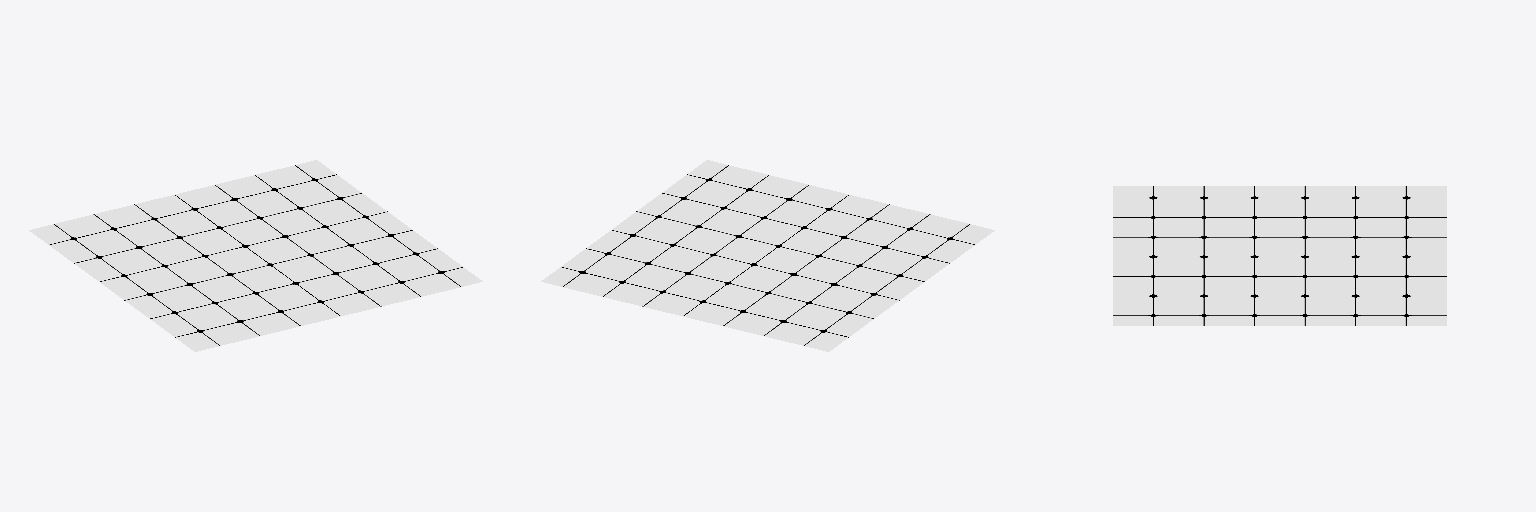
3 views of the same model, side by side, from view 1: azimuth 30°, elevation 25°; view 2: azimuth 150°, elevation 25°; view 3: azimuth 270°, elevation 25° (orthographic).
Parts seen in each view (by area): view 1: Plane; view 2: Plane; view 3: Plane.
Part boxes in pixels (x1,y1,x2,y2): Plane: (29, 160, 482, 351); Plane: (541, 160, 994, 351); Plane: (1113, 186, 1446, 325).
Bounding box in the file's own units: 19.1 × 0 × 19.1.
Materials: 1 (1 with a texture image).